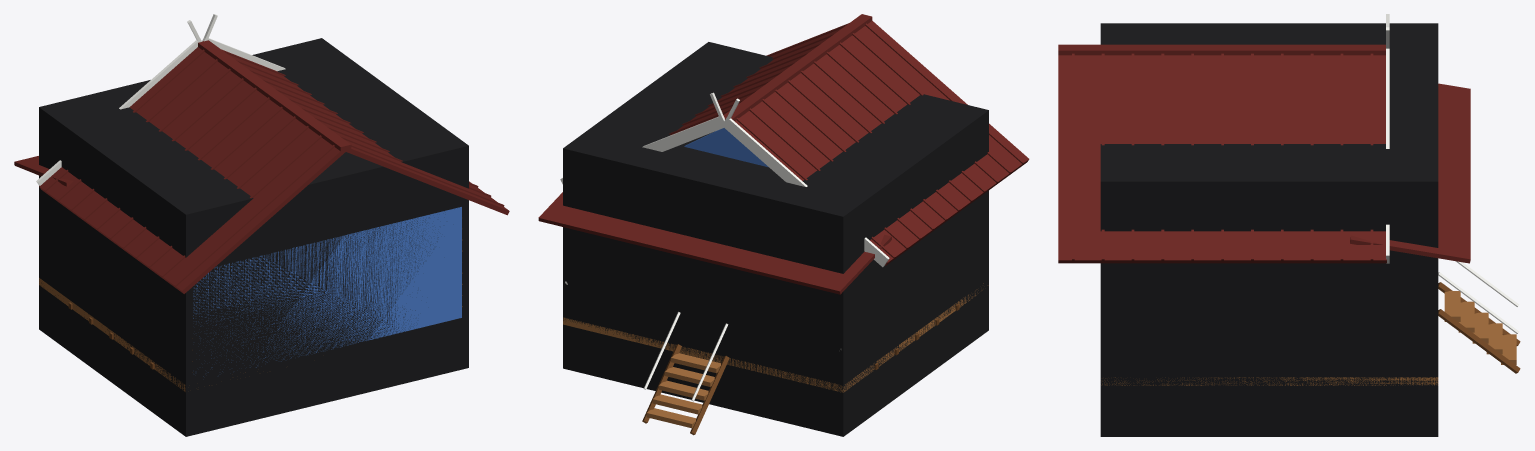
The model's file is env_kb_house_blue.fbx.
3 views of the same model, side by side, from view 1: azimuth 30°, elevation 25°; view 2: azimuth 150°, elevation 25°; view 3: azimuth 270°, elevation 25° (orthographic). The views are drawn at different scales.
Parts seen in each view (by area): view 1: COL_env_kb_house_blue, env_kb_house_blue_geo_LOD0; view 2: COL_env_kb_house_blue, env_kb_house_blue_geo_LOD0; view 3: COL_env_kb_house_blue, env_kb_house_blue_geo_LOD0.
Part boxes in pixels (x1,y1,x2,y2): COL_env_kb_house_blue: [39, 38, 468, 436]; env_kb_house_blue_geo_LOD0: [14, 14, 509, 391]; COL_env_kb_house_blue: [563, 42, 988, 436]; env_kb_house_blue_geo_LOD0: [538, 14, 1029, 435]; COL_env_kb_house_blue: [1100, 23, 1438, 436]; env_kb_house_blue_geo_LOD0: [1058, 14, 1520, 385].
Size of what is drawn, in the model's own units: 9.36 by 7.98 by 9.85.
